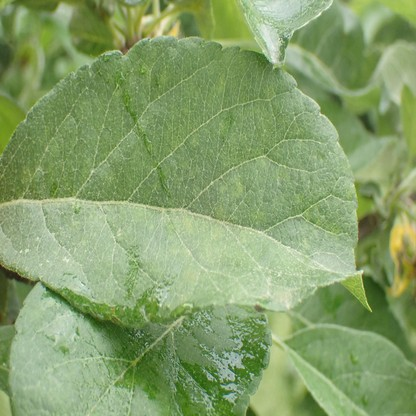scab: (72, 42, 354, 323)
